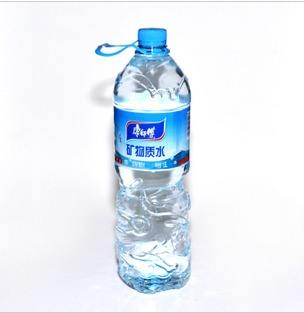amwater: (89, 19, 203, 300)
